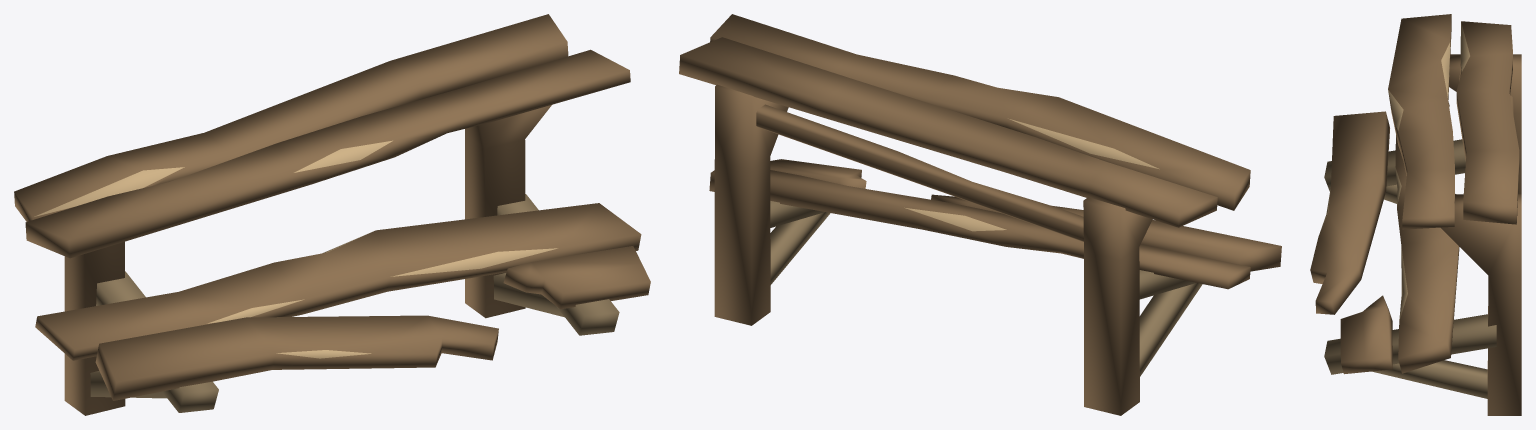
The model's file is rpgpp_av_shelf_wall_03a.gltf.
The picture shows the model from 3 angles, left to right: view 1: azimuth 30°, elevation 25°; view 2: azimuth 150°, elevation 25°; view 3: azimuth 270°, elevation 25°; orthographic projection. The views are drawn at different scales.
Parts seen in each view (by area): view 1: rpgpp_av_shelf_wall_03a; view 2: rpgpp_av_shelf_wall_03a; view 3: rpgpp_av_shelf_wall_03a.
Boxes of the visible parts, x1=… form: rpgpp_av_shelf_wall_03a: x1=14, y1=14, x2=650, y2=415; rpgpp_av_shelf_wall_03a: x1=679, y1=14, x2=1281, y2=415; rpgpp_av_shelf_wall_03a: x1=1310, y1=14, x2=1521, y2=415.
Bounding box in the file's own units: 0.016 × 0.00713 × 0.00605.
Materials: 1 (1 with a texture image).
